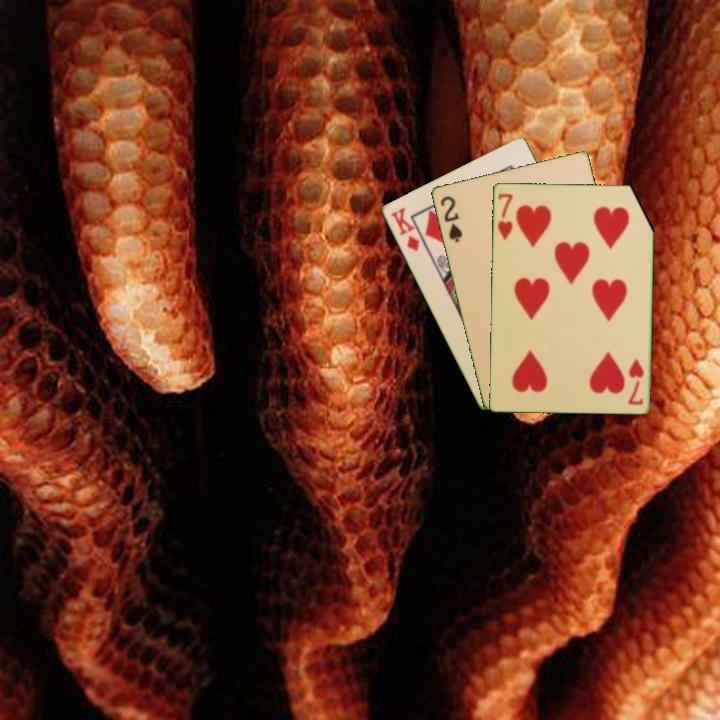2s: (437, 192, 465, 245)
7h: (624, 355, 646, 407), (494, 190, 515, 243)
Kd: (387, 204, 422, 255)
